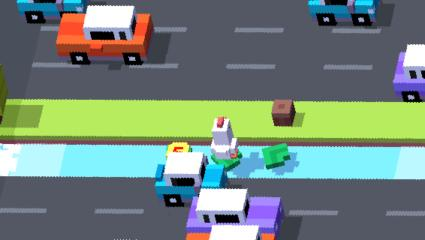hen: (210, 116, 240, 160)
obstacle: (56, 5, 155, 66), (187, 189, 285, 237), (155, 152, 229, 208), (308, 0, 380, 28), (393, 43, 425, 101), (16, 0, 89, 23), (186, 225, 275, 240), (270, 99, 297, 127), (0, 67, 6, 120)
timber: (210, 147, 243, 171), (262, 143, 291, 169)
